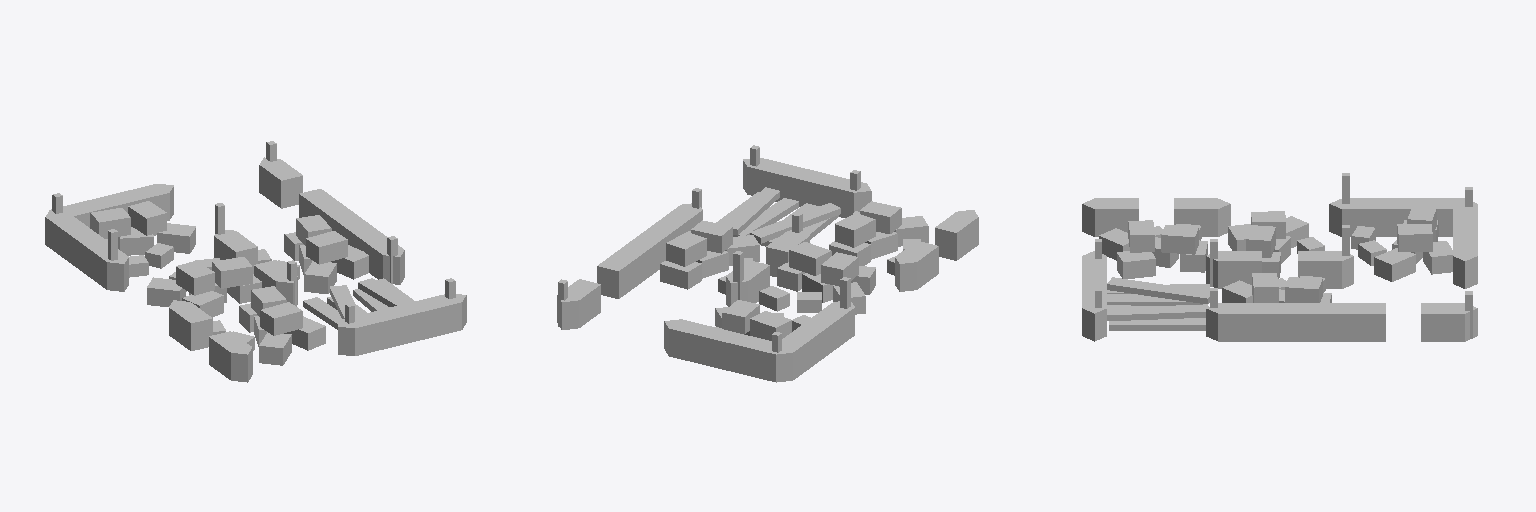
The model's file is Casa 9 Rota.obj.
3 views of the same model, side by side, from view 1: azimuth 30°, elevation 25°; view 2: azimuth 150°, elevation 25°; view 3: azimuth 270°, elevation 25° (orthographic).
Size of the model in its own units: 2.21 by 0.5 by 3.21.